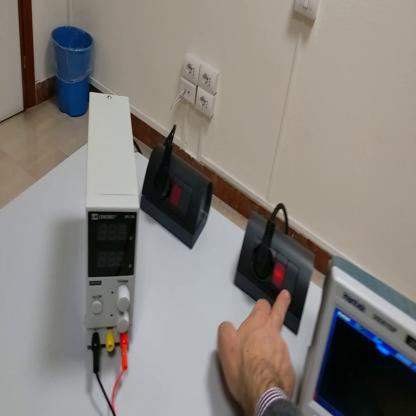hand: (219, 290, 297, 406)
oscilloscope: (297, 267, 416, 414)
power supply: (88, 80, 137, 359)
socket: (233, 213, 314, 336), (140, 137, 214, 249)
